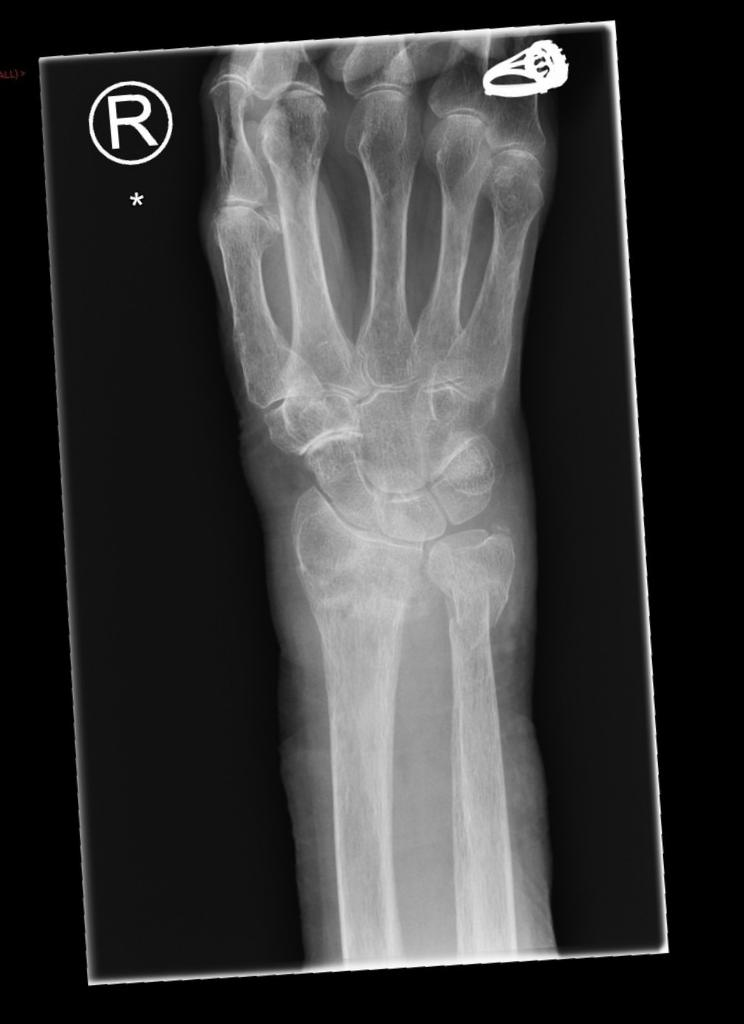fracture: (440, 571, 509, 648)
